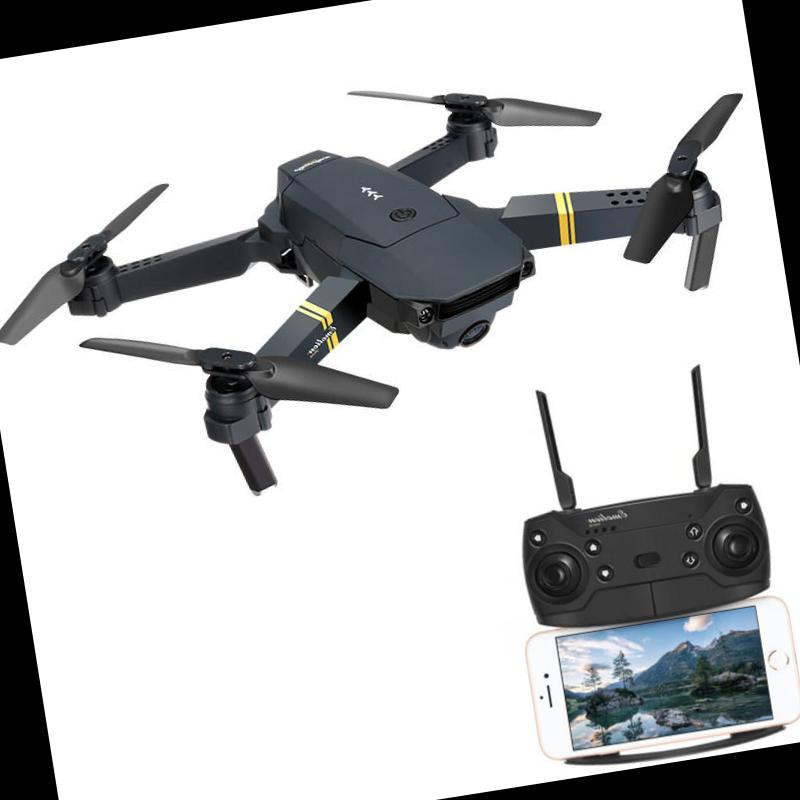drone: (0, 34, 789, 512)
